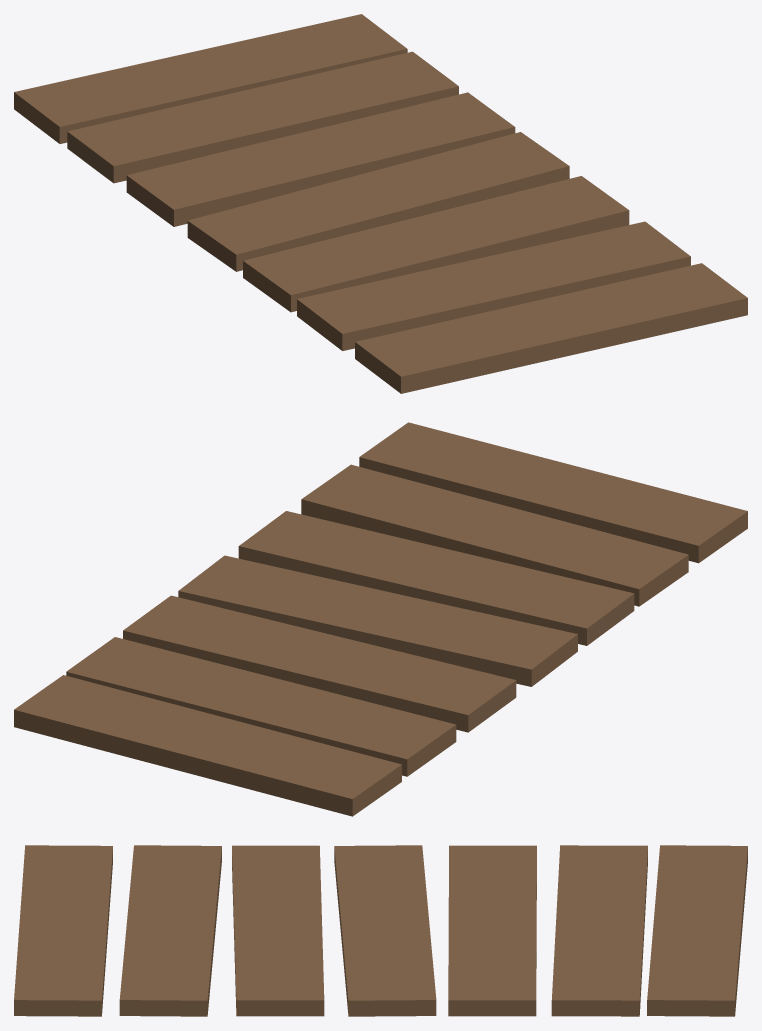
File: Path_Plank_2x1.fbx
3 views of the same model, one above another, from view 1: azimuth 30°, elevation 25°; view 2: azimuth 150°, elevation 25°; view 3: azimuth 270°, elevation 25° (orthographic). The views are drawn at different scales.
Parts seen in each view (by area): view 1: Path_Plank_2x1; view 2: Path_Plank_2x1; view 3: Path_Plank_2x1.
Part boxes in pixels (bbox=[...]): Path_Plank_2x1: bbox=[14, 14, 747, 393]; Path_Plank_2x1: bbox=[14, 422, 747, 816]; Path_Plank_2x1: bbox=[14, 845, 747, 1016].
Bounding box in the file's own units: 100 × 4.81 × 200.
